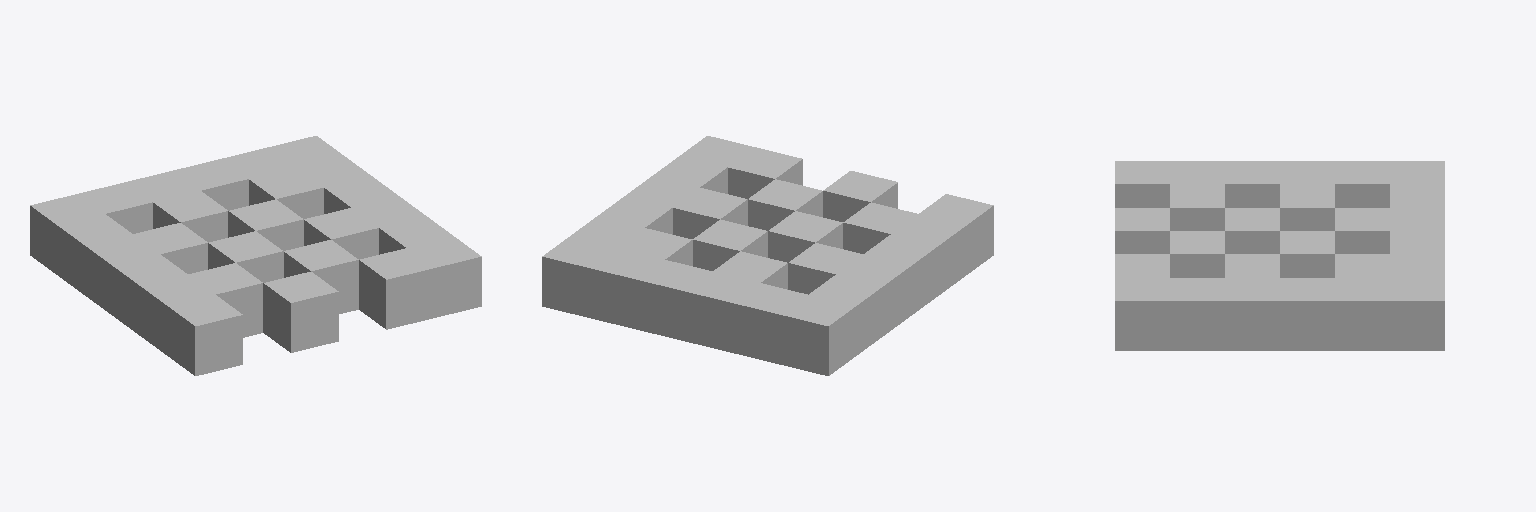
The model's file is U-Turn Grate U.obj.
The picture shows the model from 3 angles: view 1: azimuth 30°, elevation 25°; view 2: azimuth 150°, elevation 25°; view 3: azimuth 270°, elevation 25°; orthographic projection.
Visible parts, largest first — view 1: object 1; view 2: object 1; view 3: object 1.
Boxes of the visible parts, <box> form: object 1: <box>30,136,481,375</box>; object 1: <box>542,136,993,375</box>; object 1: <box>1115,161,1444,350</box>.
Bounding box in the file's own units: 0.6 × 0.1 × 0.6.